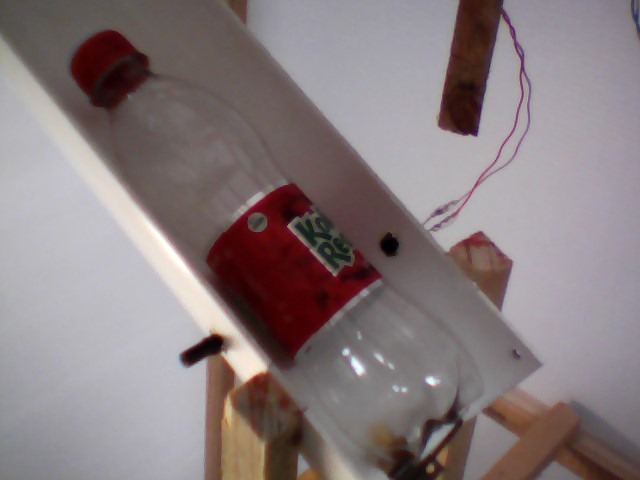plastico: (62, 23, 502, 480)
